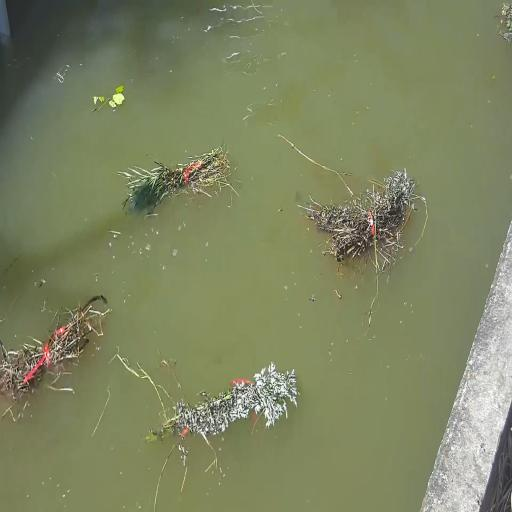twig: (274, 165, 426, 278), (150, 345, 288, 469), (4, 291, 94, 421), (110, 136, 226, 208), (82, 77, 134, 117), (484, 0, 512, 31)
